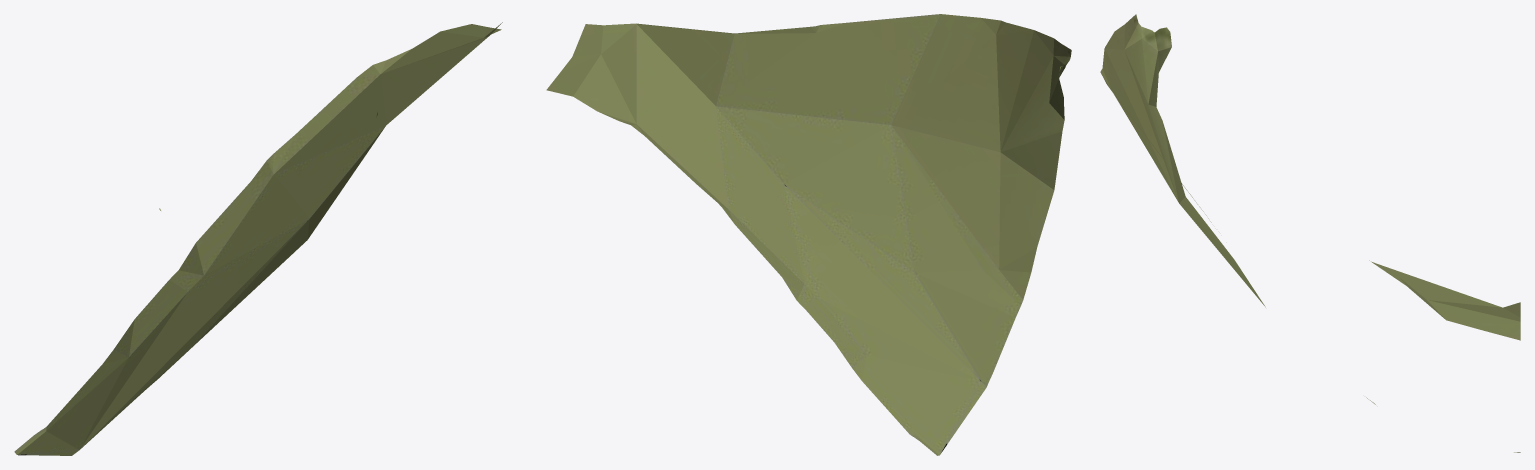
The picture shows the model from 3 angles, left to right: view 1: azimuth 30°, elevation 25°; view 2: azimuth 150°, elevation 25°; view 3: azimuth 270°, elevation 25°; orthographic projection. The views are drawn at different scales.
Size of the model in its own units: 26.11 by 19.7 by 16.98.
2 materials, 2 textured.
